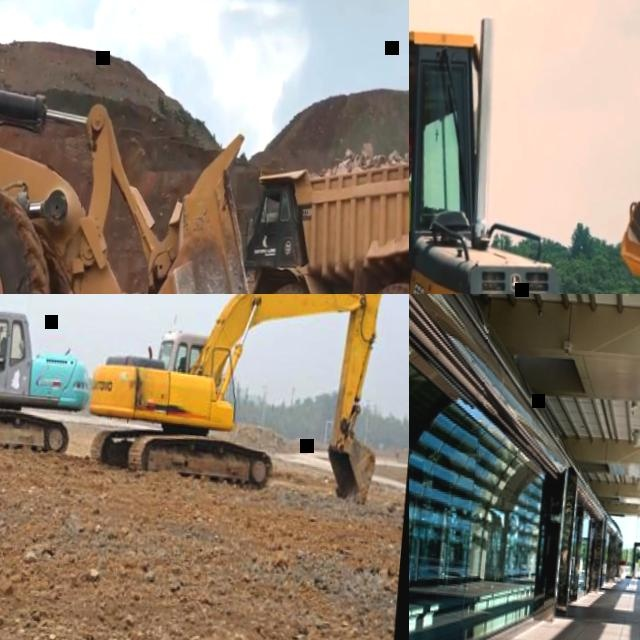Person: (176, 356, 186, 373), (0, 336, 6, 358)
machinery: (0, 0, 320, 294), (409, 0, 640, 294), (83, 294, 393, 502), (228, 122, 409, 294), (0, 294, 103, 460)
